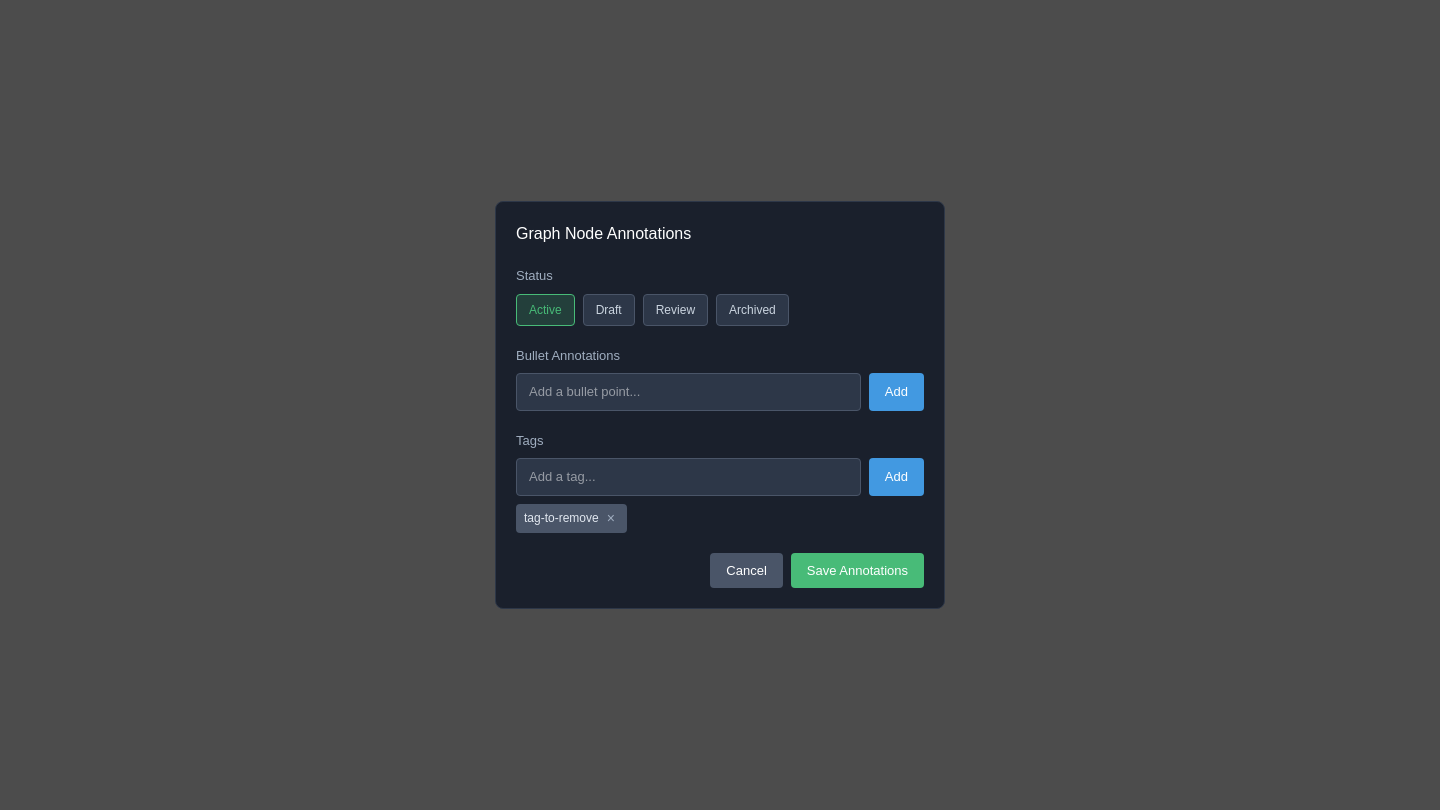
Test: GraphAnnotation › removes tag
This screenshot has width=1440, height=810.
Expected: the text "tag-to-remove" is shown, [524, 511, 599, 525]
Click the button "×" at (611, 518), box [603, 508, 619, 528]
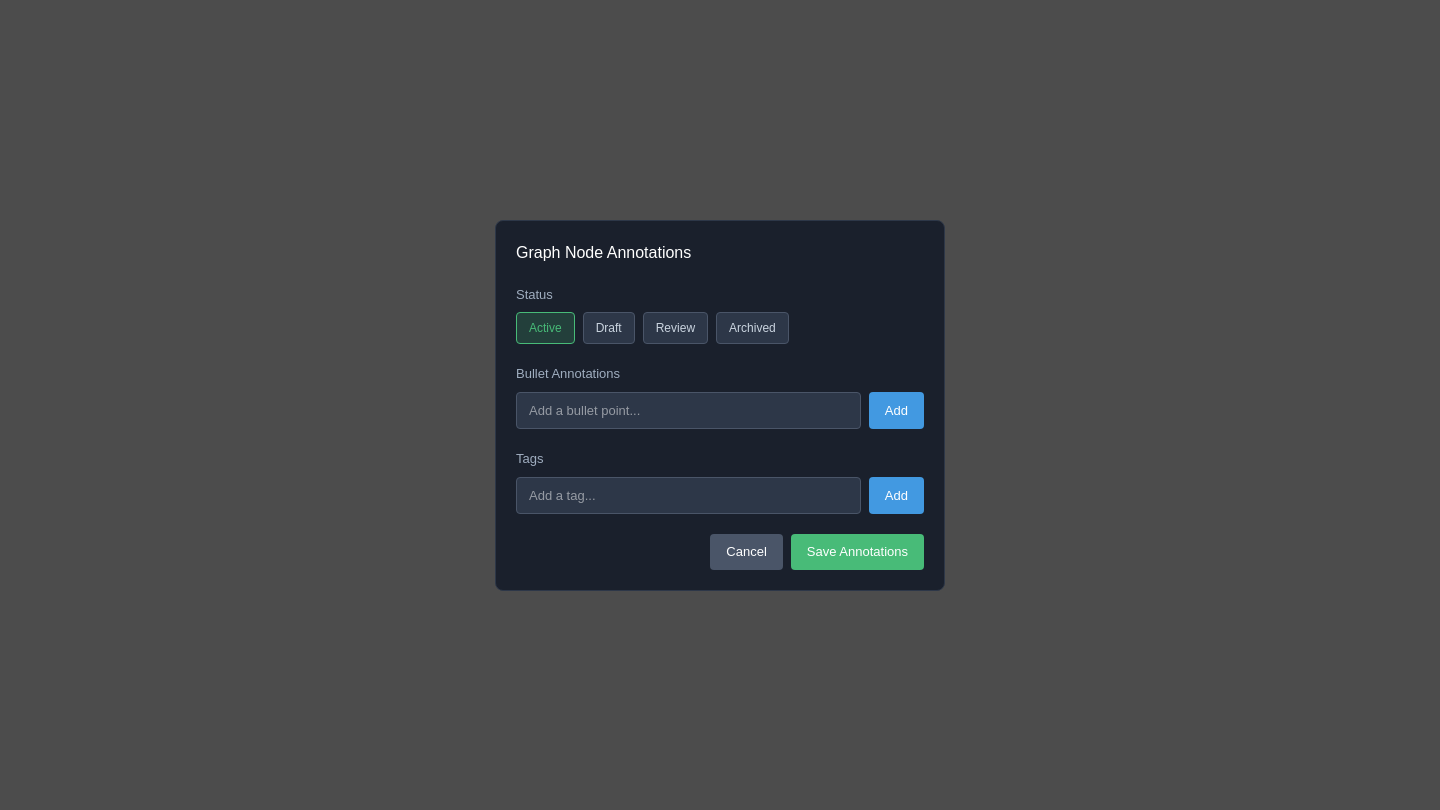
Expected: the text "tag-to-remove" is gone
